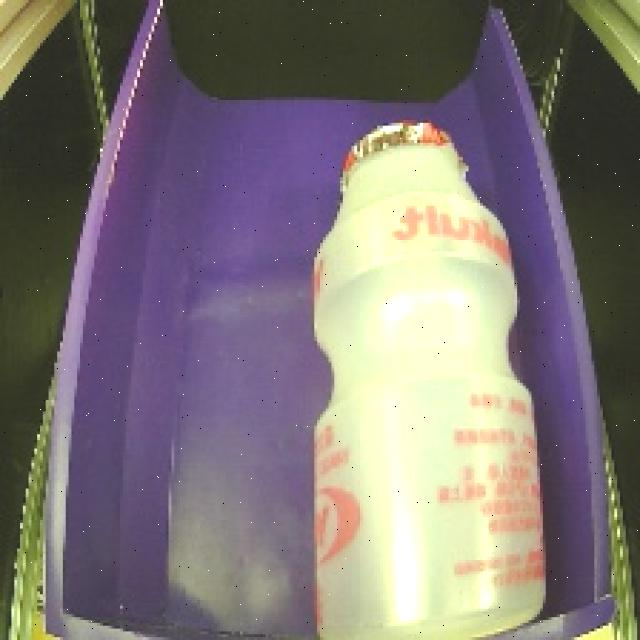plastic: (294, 100, 557, 640)
